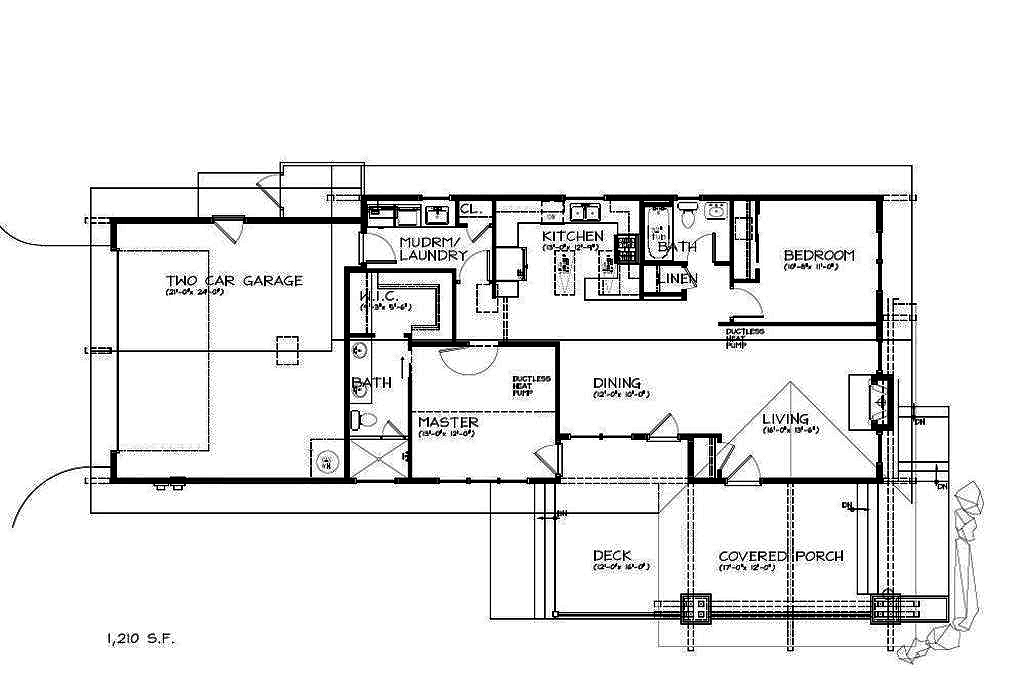door: (206, 203, 261, 249), (722, 283, 779, 321), (256, 168, 298, 218), (642, 403, 685, 450), (686, 233, 728, 275), (455, 251, 504, 287), (359, 226, 403, 265), (530, 442, 576, 478), (709, 435, 747, 477), (726, 453, 768, 483), (377, 413, 403, 436), (463, 224, 490, 243)
large_sink: (348, 404, 374, 434), (679, 199, 703, 230)
sink: (414, 191, 464, 232)
small_sink: (352, 336, 377, 408), (707, 197, 730, 226)
twin_sink: (571, 196, 605, 226)
window: (873, 227, 890, 292)
